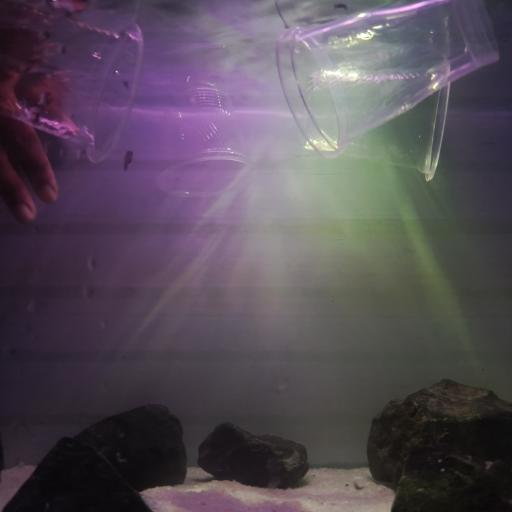plastic_cup: (274, 0, 501, 162), (0, 5, 143, 164), (296, 58, 452, 182), (155, 87, 255, 199)
